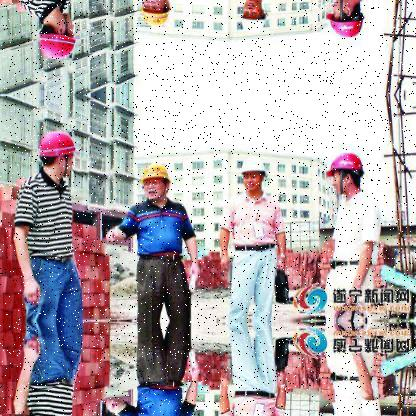Helmet: (24, 0, 86, 63), (28, 132, 90, 184), (326, 152, 369, 196), (324, 0, 366, 42), (136, 0, 176, 32), (240, 156, 268, 199), (236, 1, 270, 35), (144, 160, 172, 200)
